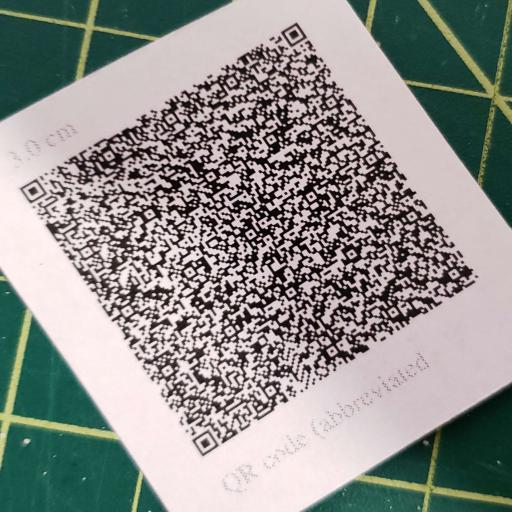QR_CODE: (12, 16, 499, 465)
